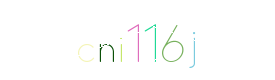1: (97, 0, 177, 80), (114, 0, 194, 80)
6: (118, 0, 198, 80)
C: (66, 0, 146, 80)
I: (97, 0, 177, 80)
J: (145, 0, 225, 80)
N: (90, 0, 170, 80)
